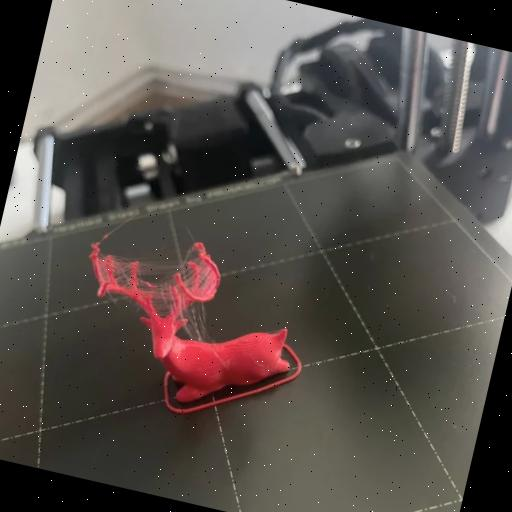stringing: (108, 249, 200, 308), (177, 300, 221, 344)
